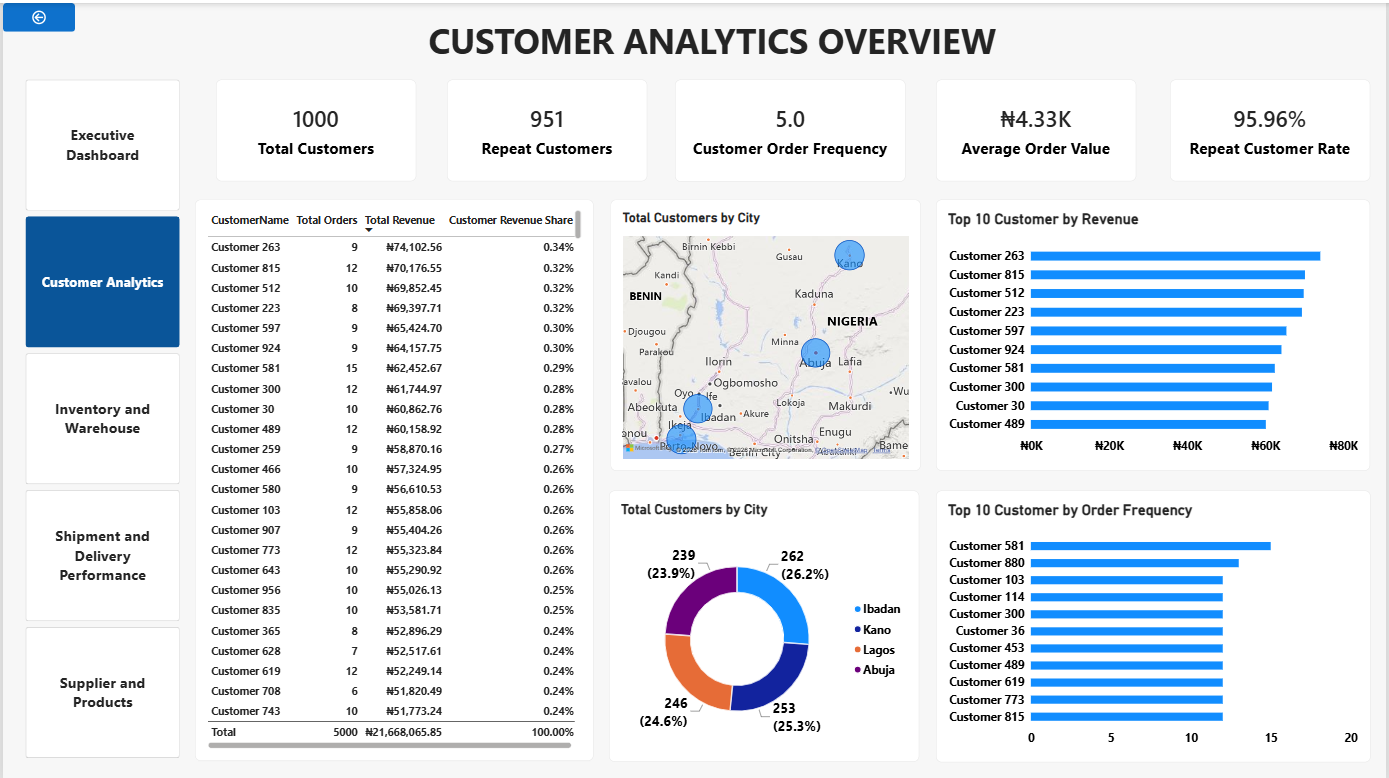

The page's visual inventory and layout, read from the dashboard file:
{"tool":"powerbi","page":{"name":"Customer Analytics","canvas":[1920,1080],"ordinal":1},"visuals":[{"type":"card","fields":{"Values":["_Measure.Total Customers"]},"box":[296.7,106,277.9,141.3],"z":0},{"type":"card","fields":{"Values":["_Measure.Customer Order Frequency"]},"box":[932.5,106,320.3,141.7],"z":1000},{"type":"card","fields":{"Values":["_Measure.Average Order Value"]},"box":[1295.1,106,277.9,141.3],"z":2000},{"type":"clusteredBarChart","title":"Top 10 Customer by Revenue","fields":{"Category":["Dim_Customers.CustomerName"],"Y":["_Measure.Total Revenue"]},"box":[1295.1,273.1,602.8,376.8],"z":3000},{"type":"textbox","box":[350.9,18.8,1269.2,87.1],"z":4000},{"type":"card","fields":{"Values":["_Measure.Repeat Customers"]},"box":[616.9,106,277.9,141.3],"z":5000},{"type":"card","fields":{"Values":["_Measure.Repeat Customer Rate"]},"box":[1620,106,277.9,141.3],"z":6000},{"type":"pageNavigator","box":[30.6,106,214.3,946.6],"z":7000},{"type":"map","title":"Total Customers by City","fields":{"Category":["Dim_Customers.City"],"Size":["_Measure.Customer Revenue Share"]},"box":[843,273.1,430.9,376.8],"z":8000},{"type":"tableEx","fields":{"Values":["Dim_Customers.CustomerName","_Measure.Total Orders","_Measure.Total Revenue","_Measure.Customer Revenue Share %"]},"box":[266.1,273.1,553.4,779.4],"z":9000},{"type":"donutChart","fields":{"Category":["Dim_Customers.City"],"Y":["_Measure.Total Customers"]},"box":[840.6,675.8,430.9,376.8],"z":10000},{"type":"clusteredBarChart","title":"Top 10 Customer by Order Frequency","fields":{"Category":["Dim_Customers.CustomerName"],"Y":["_Measure.Customer Order Frequency"]},"box":[1295,676,603,377],"z":11000},{"type":"actionButton","box":[0,0,100,40],"z":11001}]}

Visuals, with their boxes in screenshot pixels (x1, y1, x2, y2), scaled from the page's 1920x1080 canvas onto the 1389x778 screenshot:
card - _Measure.Total Customers: bbox(215, 76, 416, 178)
card - _Measure.Customer Order Frequency: bbox(675, 76, 906, 178)
card - _Measure.Average Order Value: bbox(937, 76, 1138, 178)
"Top 10 Customer by Revenue" clusteredBarChart: bbox(937, 197, 1373, 468)
textbox: bbox(254, 14, 1172, 76)
card - _Measure.Repeat Customers: bbox(446, 76, 647, 178)
card - _Measure.Repeat Customer Rate: bbox(1172, 76, 1373, 178)
pageNavigator: bbox(22, 76, 177, 758)
"Total Customers by City" map: bbox(610, 197, 922, 468)
tableEx - Dim_Customers.CustomerName x _Measure.Total Orders: bbox(193, 197, 593, 758)
donutChart - Dim_Customers.City x _Measure.Total Customers: bbox(608, 487, 920, 758)
"Top 10 Customer by Order Frequency" clusteredBarChart: bbox(937, 487, 1373, 759)
actionButton: bbox(0, 0, 72, 29)
